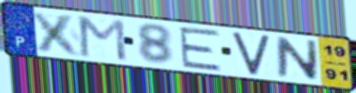8: (135, 22, 176, 67)
E: (177, 26, 224, 72)
M: (78, 15, 130, 63)
N: (274, 35, 320, 83)
V: (230, 32, 272, 77)
X: (29, 9, 86, 58)
